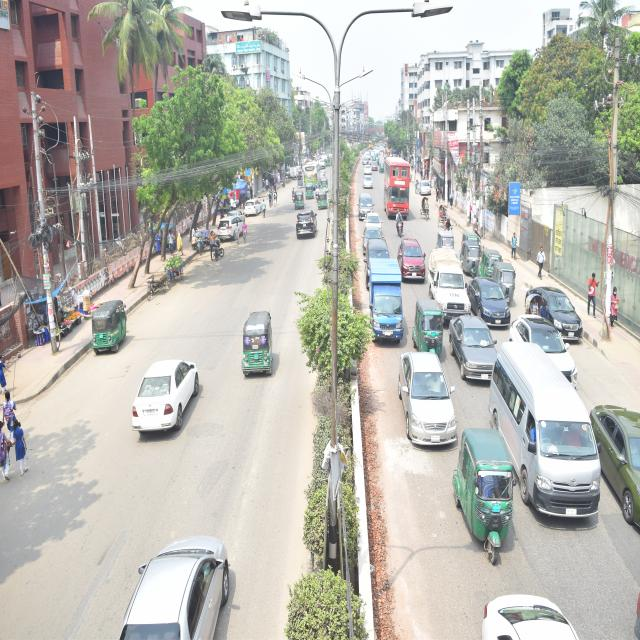bus: (382, 156, 416, 220)
car: (118, 537, 234, 640), (397, 346, 459, 456), (129, 353, 202, 445), (591, 396, 640, 524), (477, 594, 581, 640), (507, 313, 577, 368), (526, 278, 586, 342), (451, 317, 497, 381), (467, 276, 511, 326), (397, 236, 428, 286), (217, 216, 246, 240), (296, 209, 318, 240), (363, 211, 384, 230), (244, 199, 266, 217), (361, 227, 382, 244)
microbus: (490, 344, 604, 529), (365, 240, 389, 264), (358, 192, 376, 216)
pickup-van: (366, 256, 408, 346)
